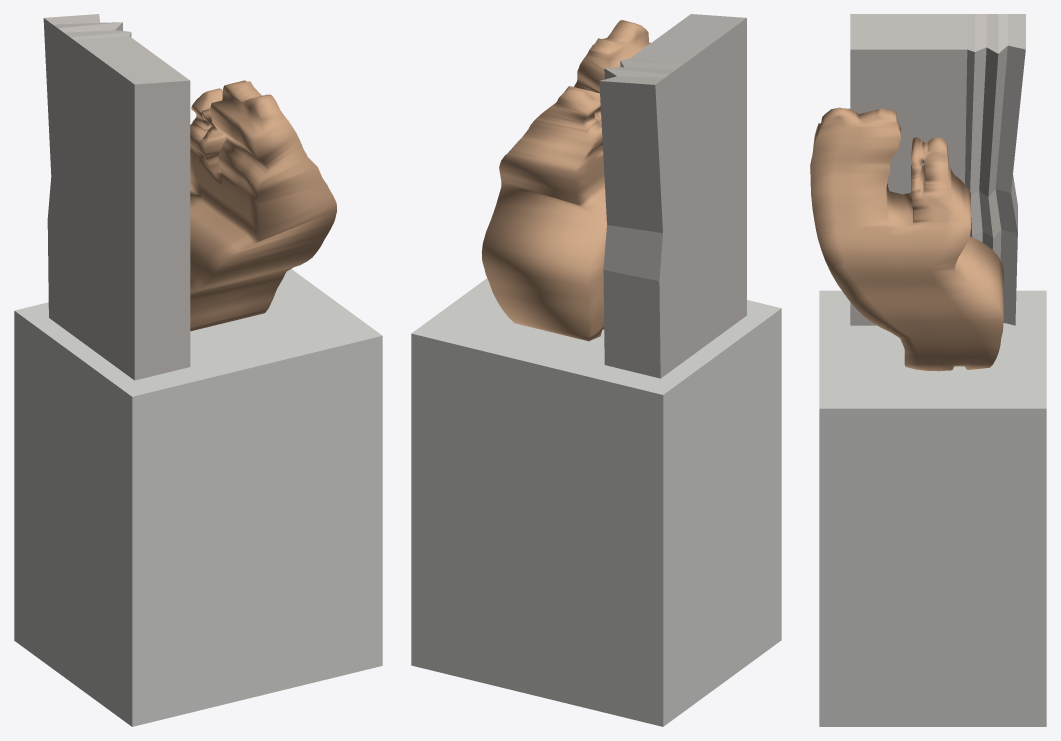
The model's file is sculpture.fbx.
3 renders of one model, left to right at view 1: azimuth 30°, elevation 25°; view 2: azimuth 150°, elevation 25°; view 3: azimuth 270°, elevation 25°, orthographic. The views are drawn at different scales.
Visible parts, largest first — view 1: Cube, Cube.001, Plane; view 2: Cube, Cube.001, Plane; view 3: Cube, Plane, Cube.001.
Boxes of the visible parts, left/top/right/bottom form: Cube: left=14, top=269, right=382, bottom=726; Cube.001: left=43, top=14, right=190, bottom=380; Plane: left=190, top=80, right=336, bottom=331; Cube: left=411, top=278, right=781, bottom=726; Cube.001: left=599, top=14, right=746, bottom=378; Plane: left=481, top=20, right=650, bottom=341; Cube: left=819, top=290, right=1046, bottom=726; Plane: left=810, top=107, right=1003, bottom=371; Cube.001: left=850, top=14, right=1025, bottom=325.
Bounding box in the file's own units: 270 × 645 × 228.
